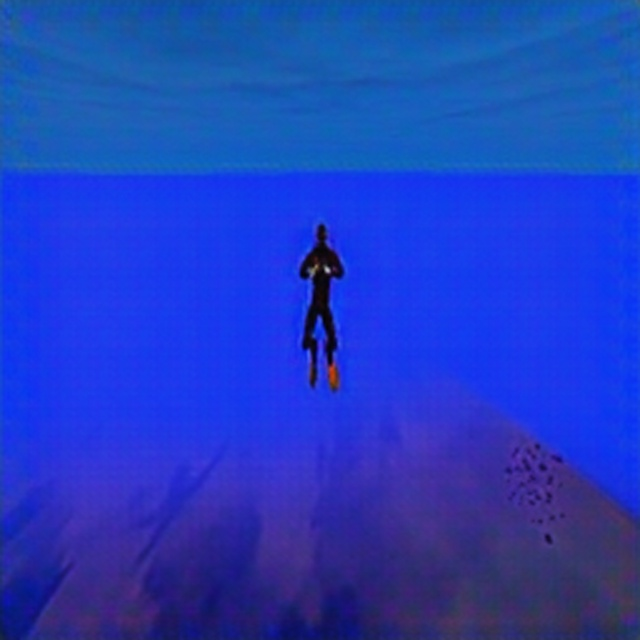diver: (294, 220, 351, 391)
